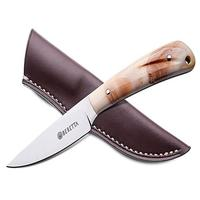knife: (4, 37, 189, 173)
